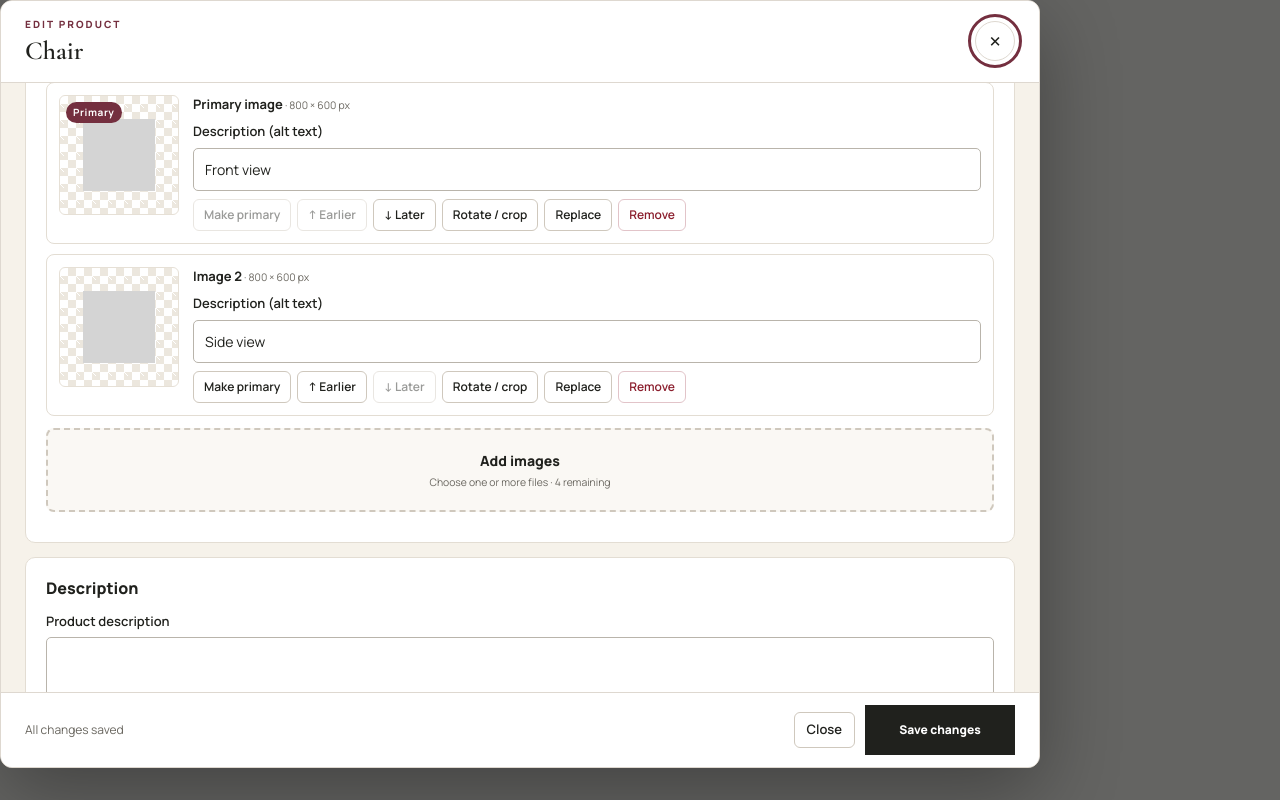
Scenario: product editor popup › makes another image primary without leaving the popup
(page scrolled)
Click the button "Make primary" below "Image 2": (242, 387) x1=193 y1=371 x2=291 y2=403
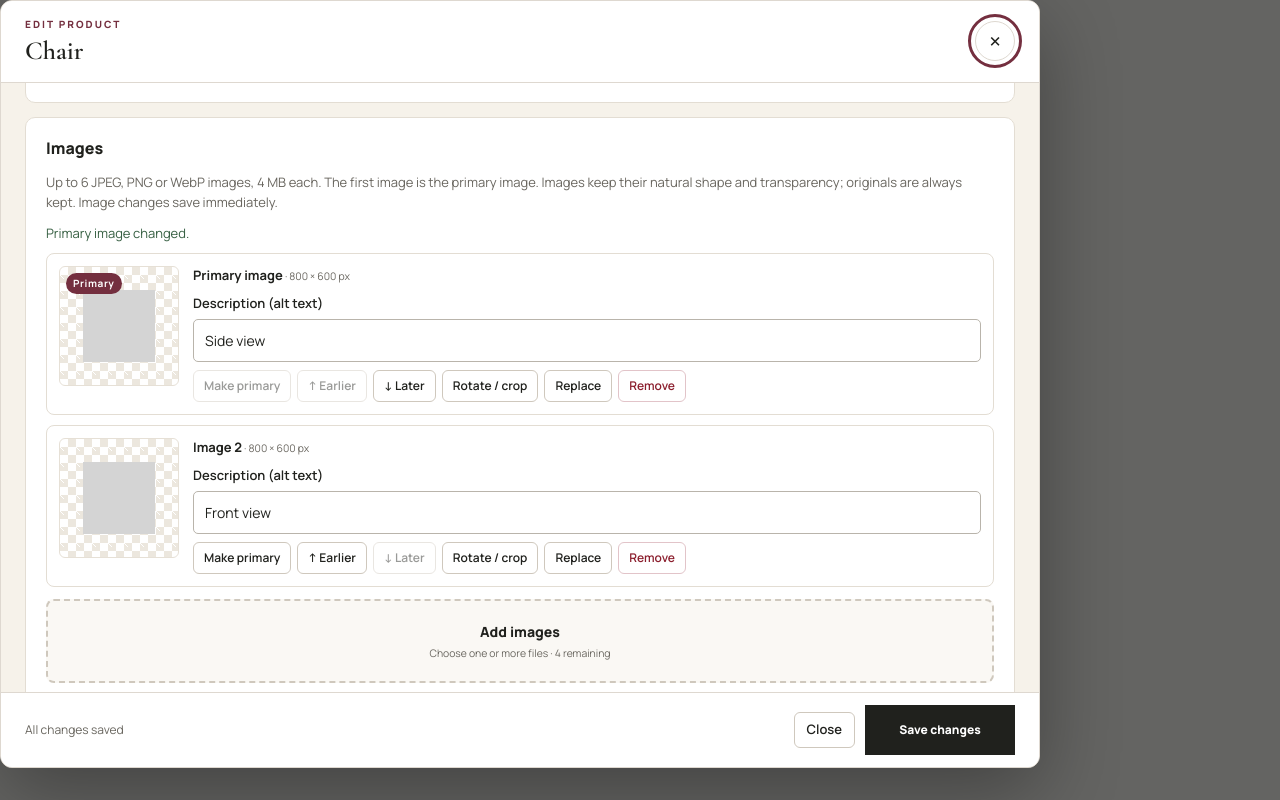
Expected: the 1st field showing "Side view" is shown, x1=193 y1=320 x2=981 y2=362
Expected: the text "Primary image changed." is shown, x1=46 y1=224 x2=189 y2=242
